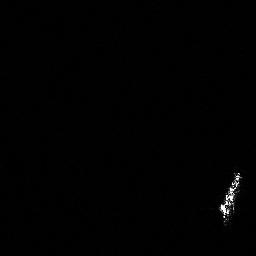ship: (215, 168, 247, 226)
